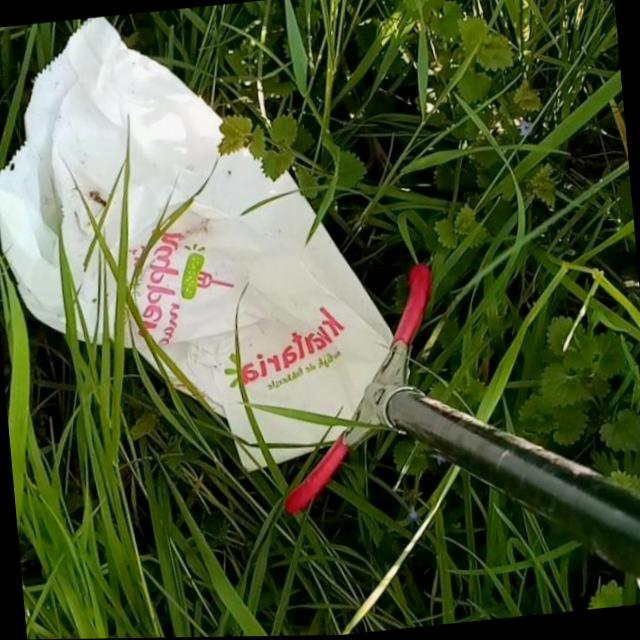Paper: (0, 0, 411, 504)
